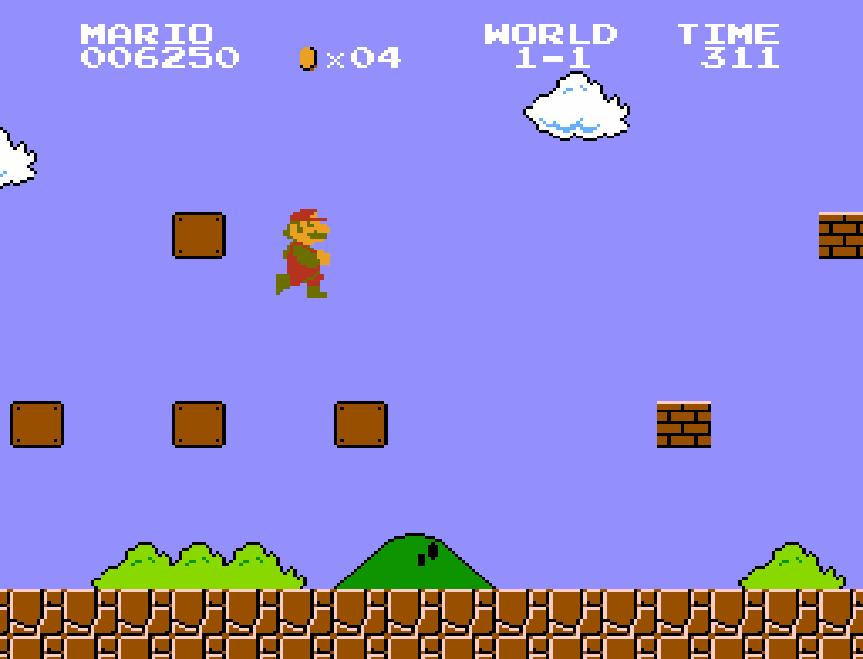big_mario: (274, 200, 332, 299)
